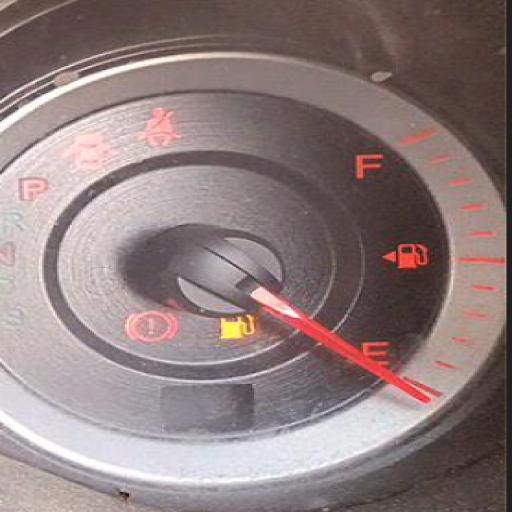empty: (362, 340, 392, 363)
fuel_icon: (398, 237, 432, 273)
full: (352, 149, 383, 183)
guage_area: (0, 36, 492, 473)
needle_center: (150, 219, 300, 337)
needle_tip: (387, 374, 435, 410)
